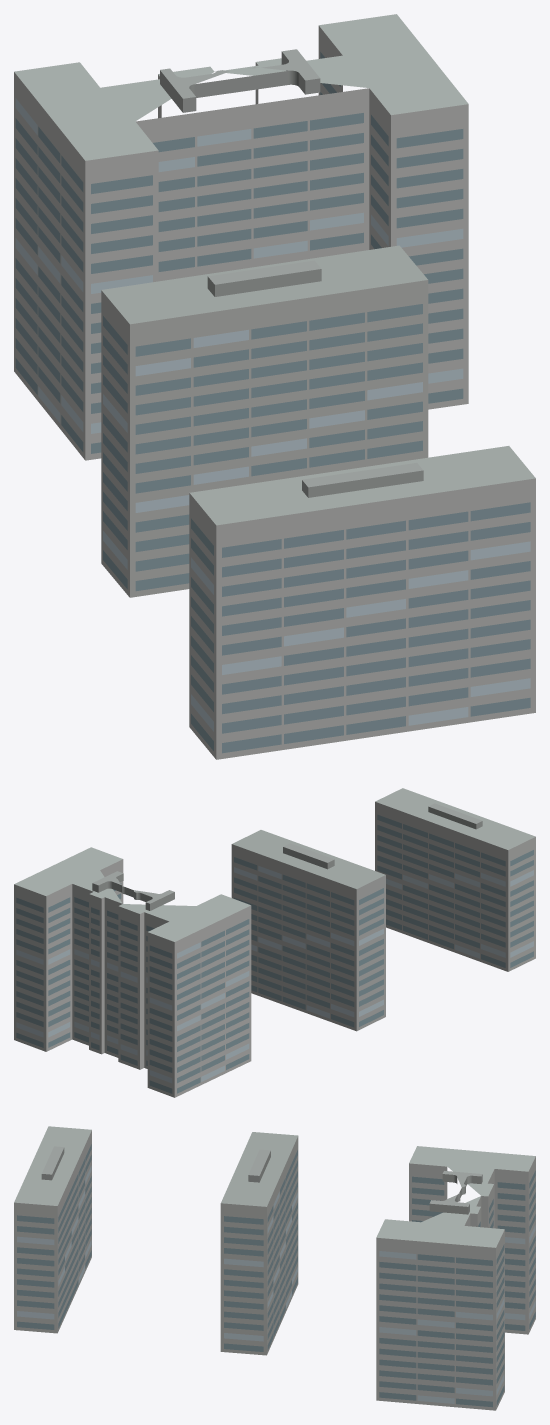
Rendered from apt-a15009601.glb.
3 views of the same model, one above another, from view 1: azimuth 30°, elevation 25°; view 2: azimuth 150°, elevation 25°; view 3: azimuth 270°, elevation 25° (orthographic). The views are drawn at different scales.
Parts seen in each view (by area): view 1: apt-a15009601; view 2: apt-a15009601; view 3: apt-a15009601.
Boxes of the visible parts, bbox=[...] form: apt-a15009601: bbox=[14, 14, 535, 759]; apt-a15009601: bbox=[14, 788, 535, 1097]; apt-a15009601: bbox=[14, 1126, 535, 1410].
Size of the model in its own units: 96.8 by 49 by 136.
